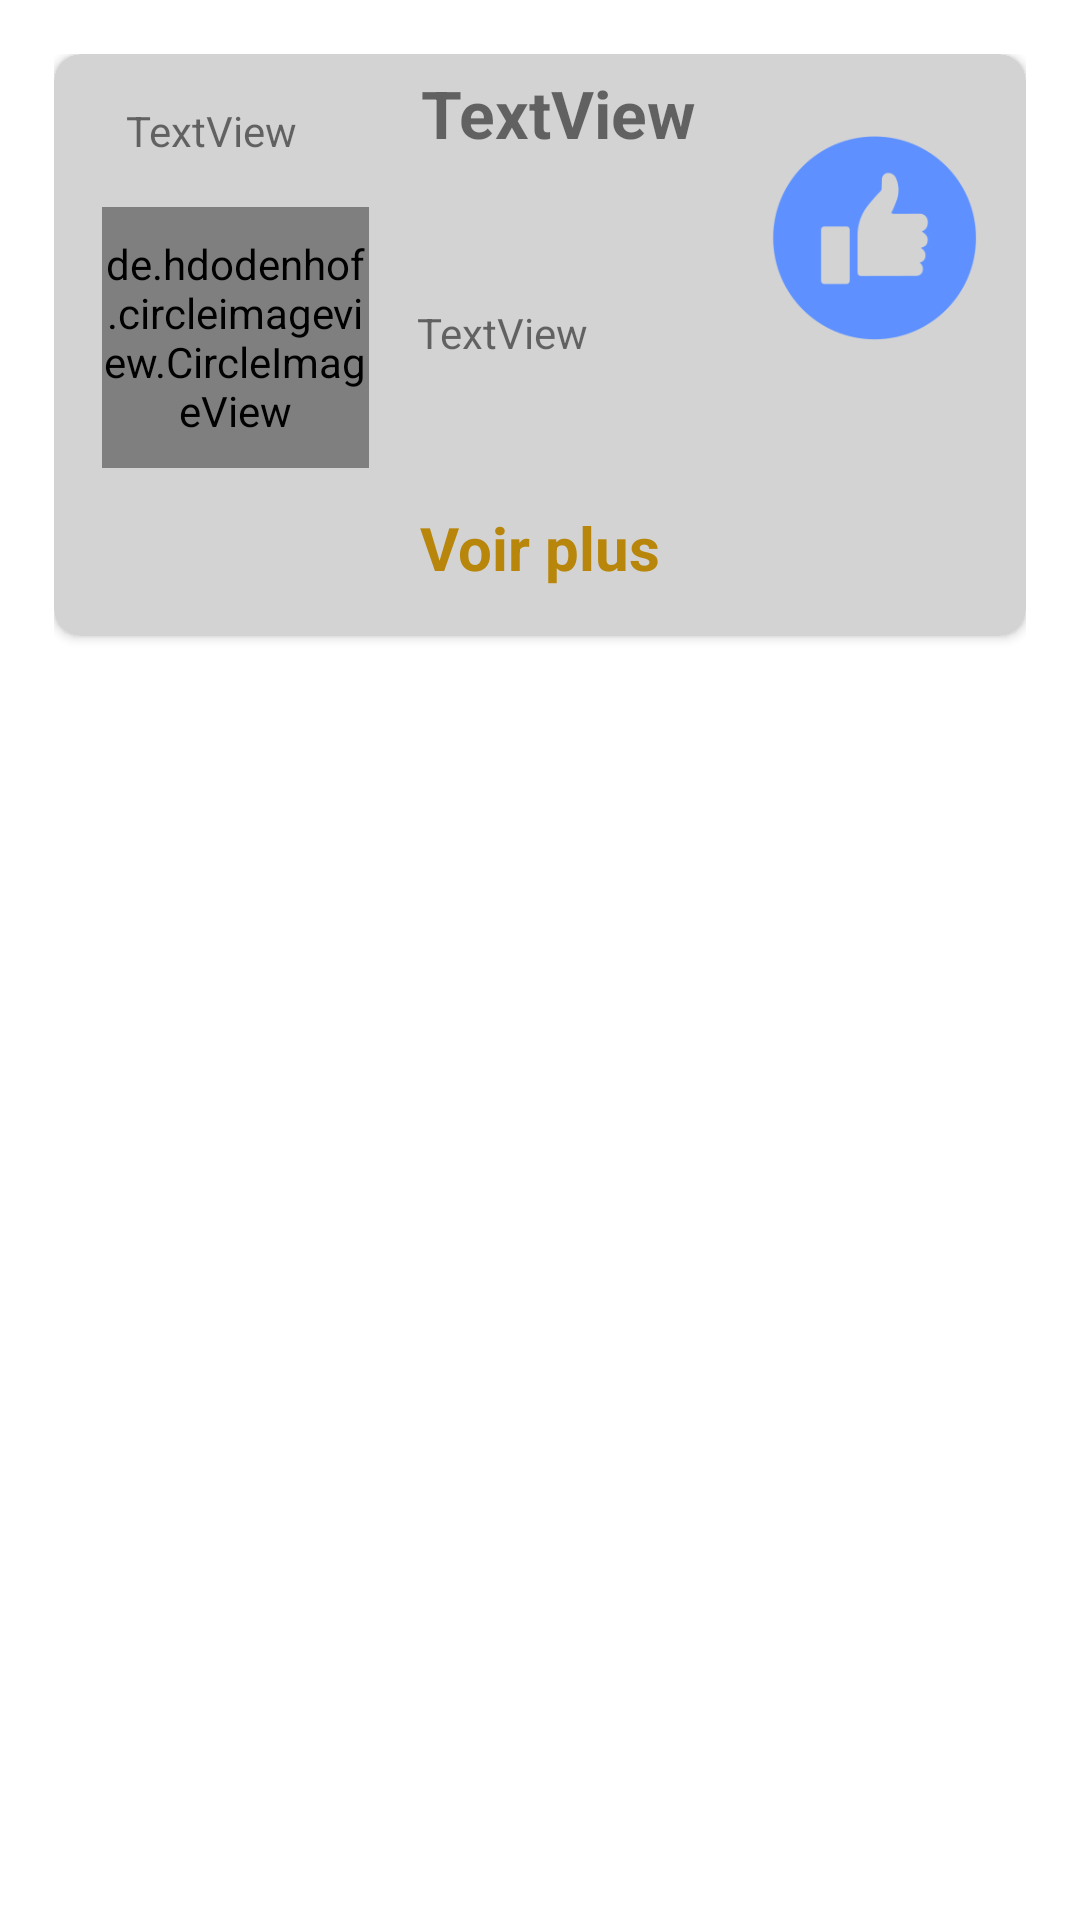

Icons on this 1080px×1920px Android screen, each with the point to tap as (x=x, y=y):
poucebleu: (x=874, y=238)
